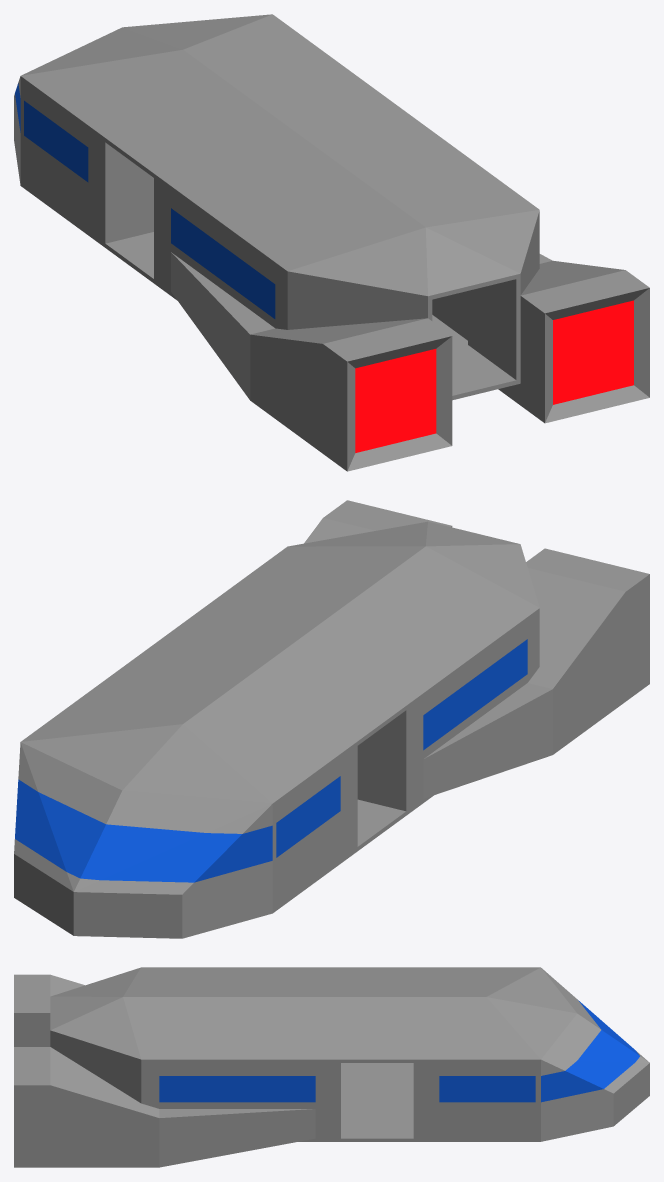
The model's file is spaceship.dae.
3 views of the same model, one above another, from view 1: azimuth 30°, elevation 25°; view 2: azimuth 150°, elevation 25°; view 3: azimuth 270°, elevation 25° (orthographic). The views are drawn at different scales.
Visible parts, largest first — view 1: exterior, engines, airlock; view 2: exterior, engines, airlock; view 3: exterior, engines, airlock, interior.
Boxes of the visible parts, <box> form: exterior: <box>14,14,539,400</box>; engines: <box>171,252,649,471</box>; airlock: <box>105,142,516,395</box>; exterior: <box>14,521,539,938</box>; engines: <box>304,500,649,798</box>; airlock: <box>357,710,406,846</box>; exterior: <box>50,967,649,1141</box>; engines: <box>14,974,315,1167</box>; airlock: <box>341,1063,413,1138</box>; interior: <box>341,1077,413,1107</box>.
Bounding box in the file's own units: 7.2 × 17.5 × 3.5.
